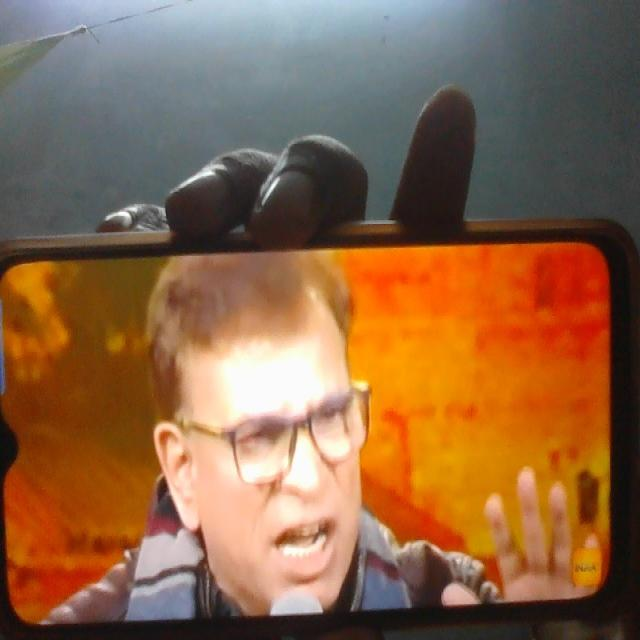fake: (159, 222, 377, 634)
